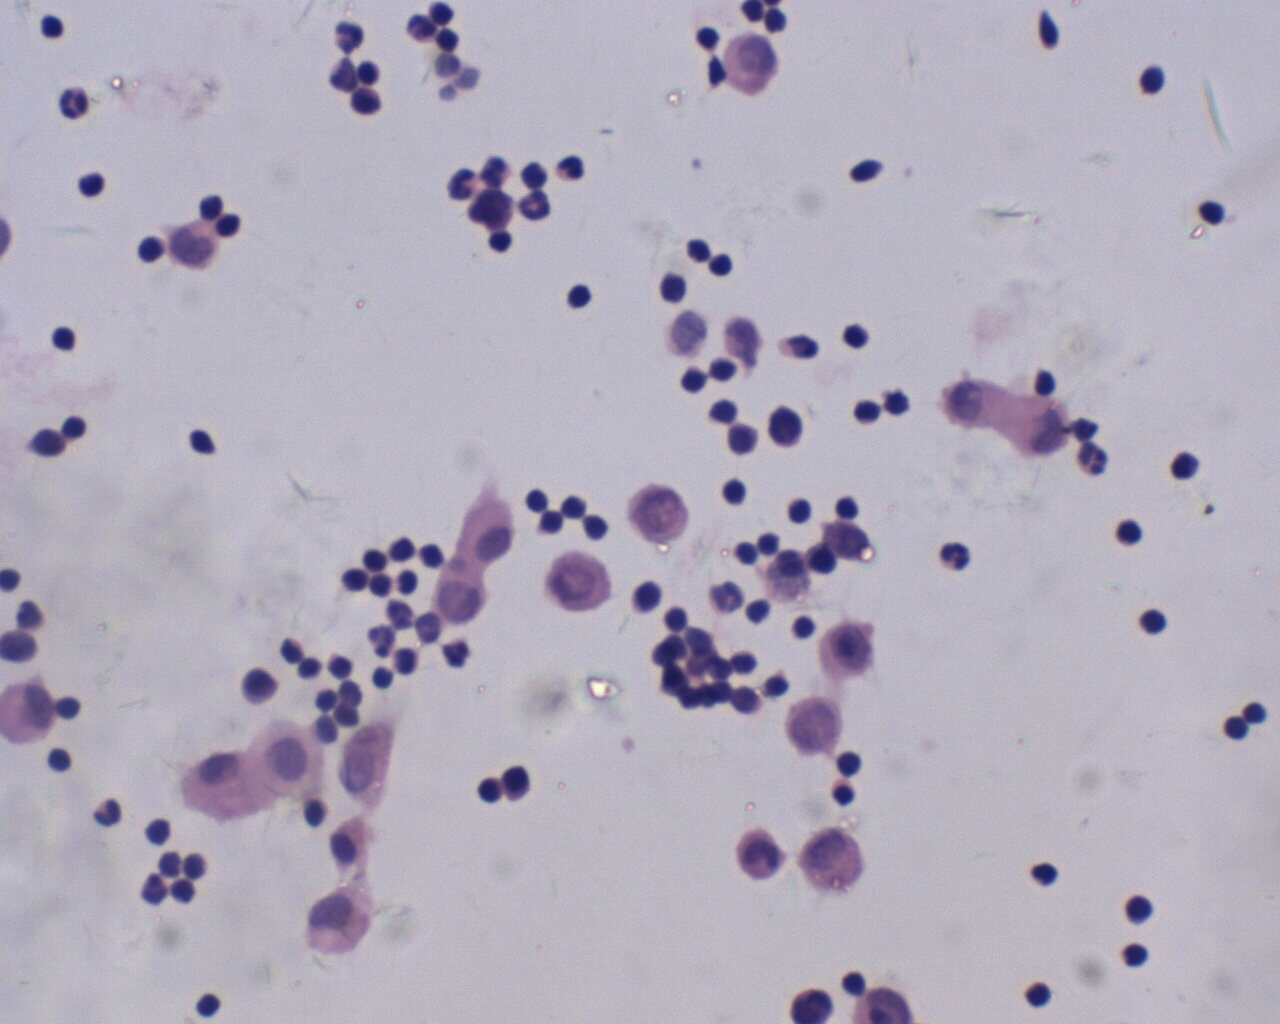ab: (541, 546, 610, 613), (813, 616, 878, 684), (778, 696, 850, 757), (627, 480, 690, 546)
lymph: (833, 315, 878, 359), (1194, 192, 1235, 239), (1133, 59, 1174, 102), (74, 169, 109, 206), (1023, 976, 1053, 1013), (1138, 606, 1172, 637), (44, 322, 76, 354), (784, 493, 815, 526), (1114, 517, 1145, 549), (1123, 893, 1155, 923), (1029, 859, 1058, 888), (720, 474, 745, 504), (566, 283, 591, 310)
meso: (247, 722, 326, 801), (455, 488, 514, 569), (722, 30, 779, 98)
neutro: (53, 79, 97, 129), (360, 622, 402, 664), (326, 17, 370, 52), (433, 637, 474, 672), (89, 791, 124, 829), (1074, 441, 1109, 478), (940, 539, 973, 573), (517, 191, 553, 222)
